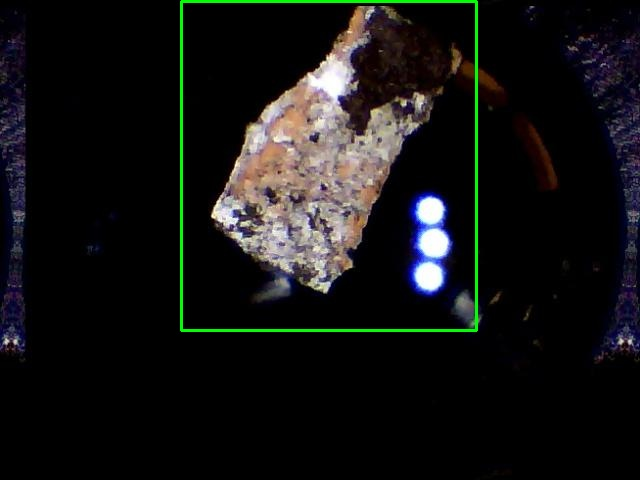megot: (181, 1, 476, 330)
